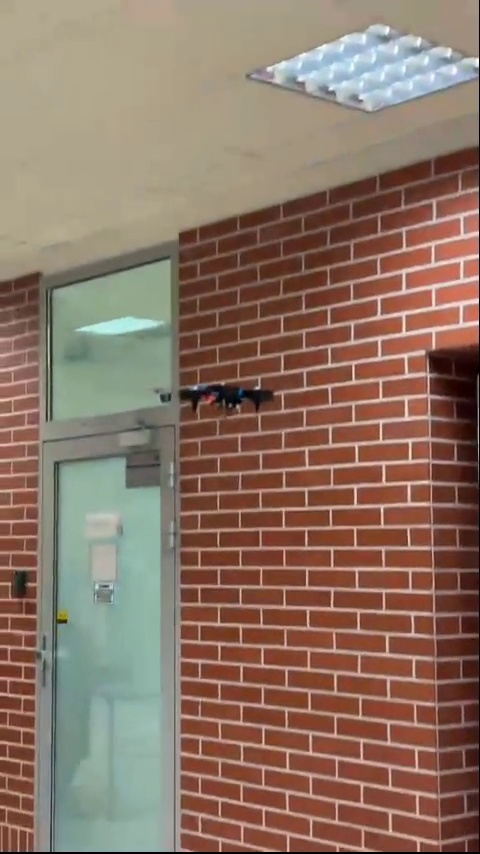drone: (178, 386, 277, 418)
